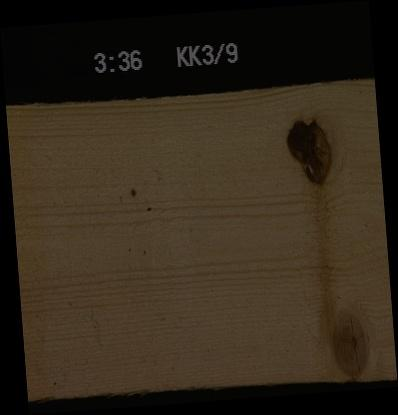edge_knot: (329, 309, 369, 378)
small_knot: (128, 186, 136, 197)
